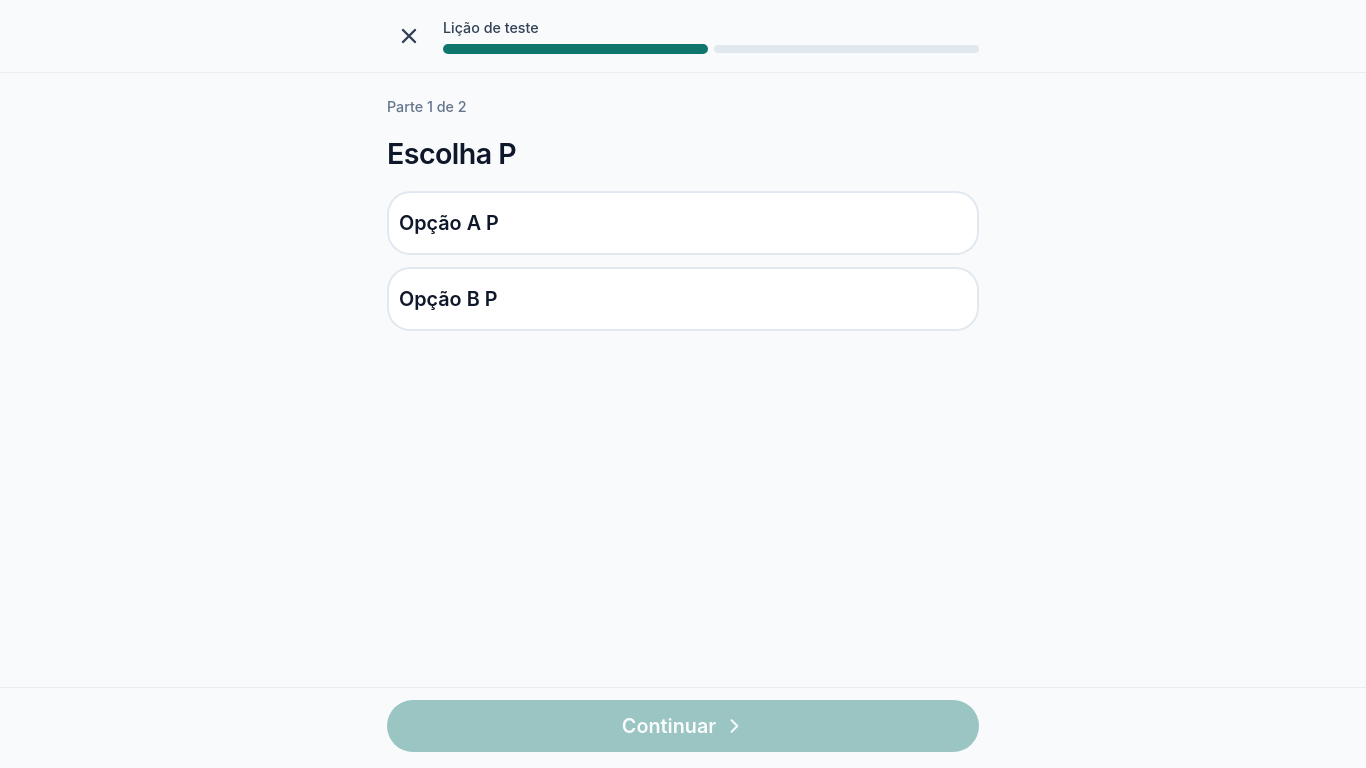
Test case: LessonRunner: estado não vaza entre telas › dois objetos choice em sequência: o segundo não herda a escolha do primeiro
The image size is (1366, 768).
Expected: the button "Continuar" is disabled, [387,700,979,752]
Click the button "Opção A P" at point(449, 223), box [387,191,979,255]
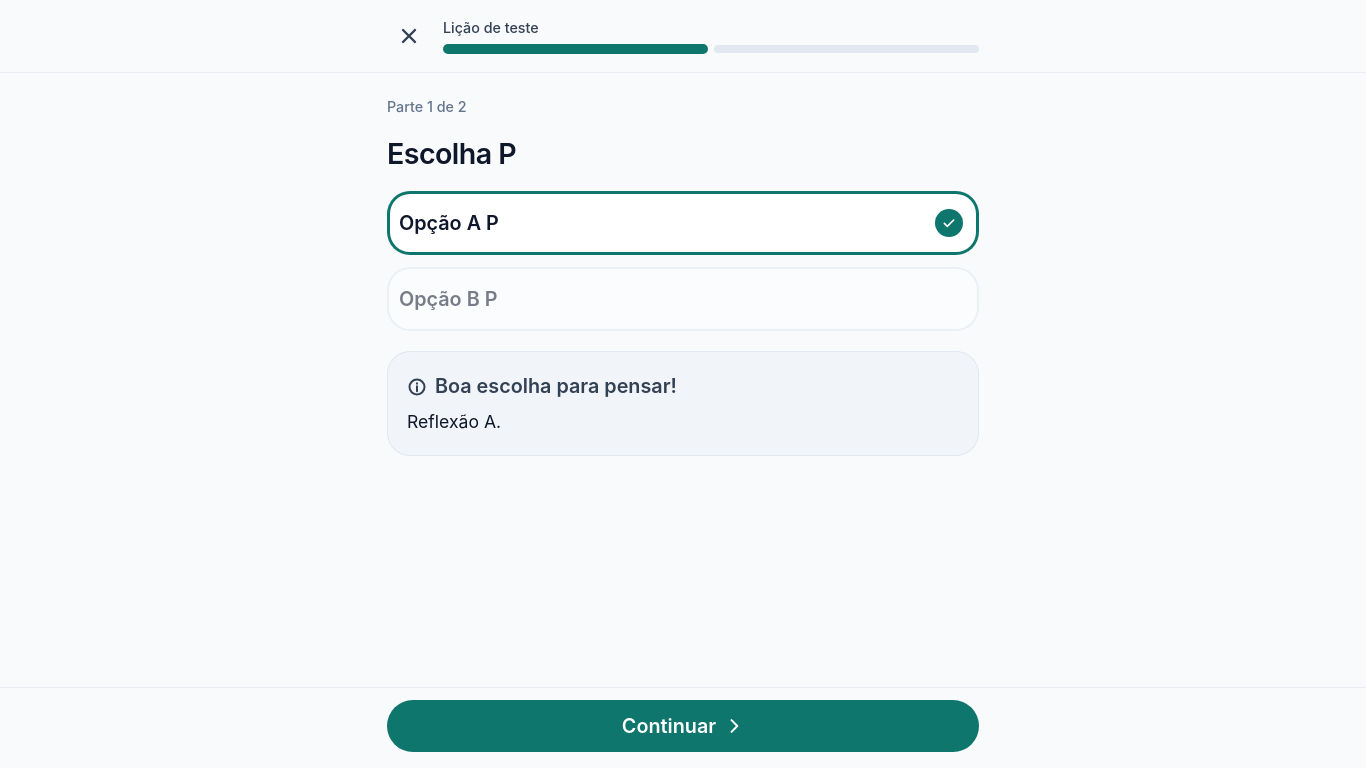
Click the button "Continuar" at point(683, 726), box [387,700,979,752]
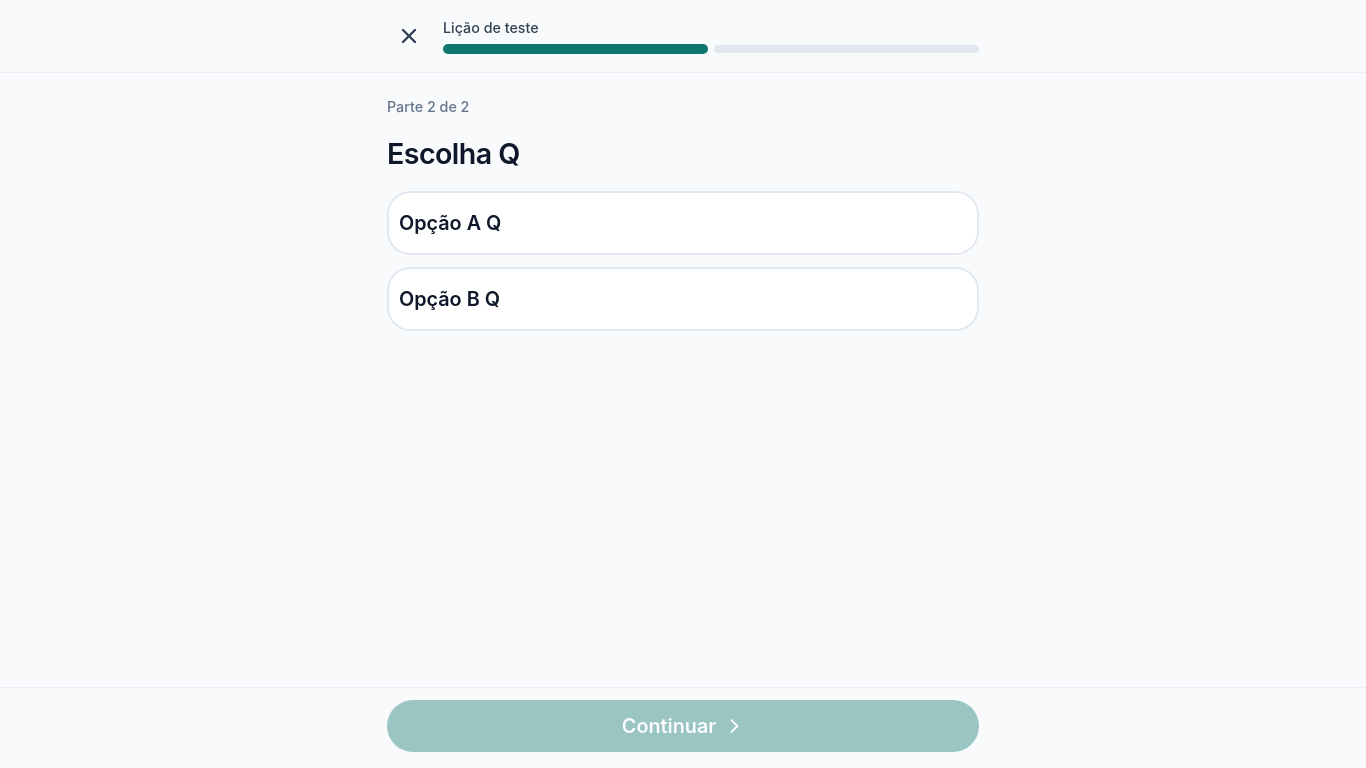
Result: the heading "Escolha Q" is shown at [387,136,520,171]
Result: the button "Continuar" is disabled at [387,700,979,752]
Result: the text "Reflexão A." is gone
